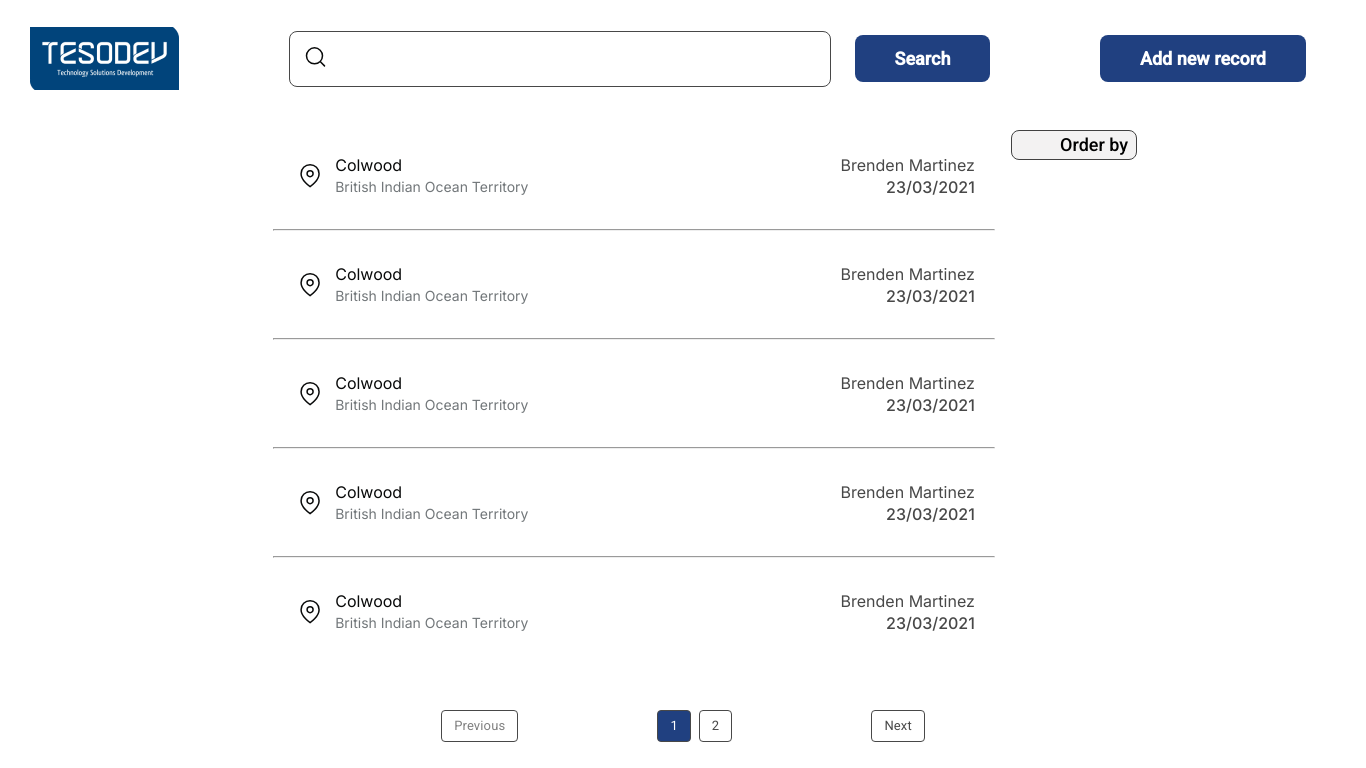
Show More › successful search
The image size is (1366, 768).
In the field with test id "searchInput": (584, 58) x1=341 y1=36 x2=827 y2=81, type "del"
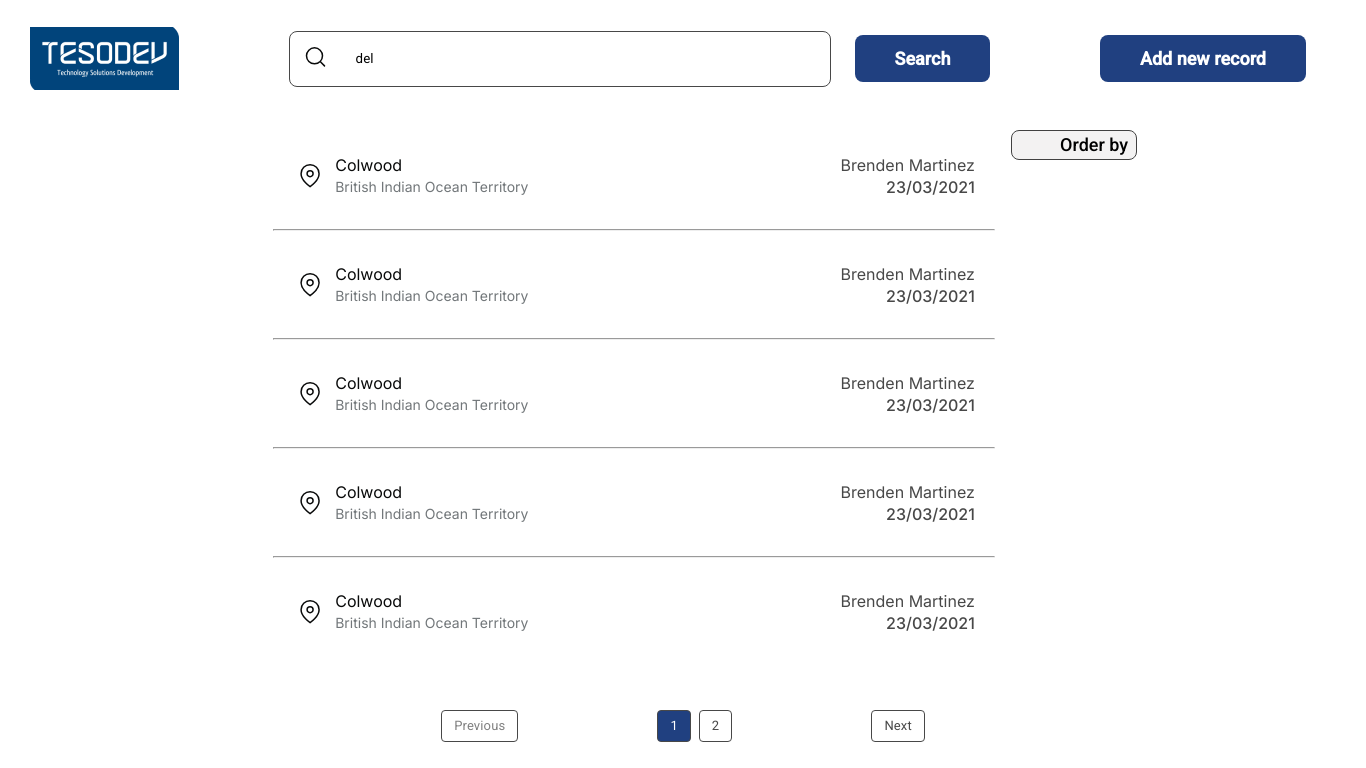
Click the button "Search": (922, 58) x1=855 y1=35 x2=990 y2=82
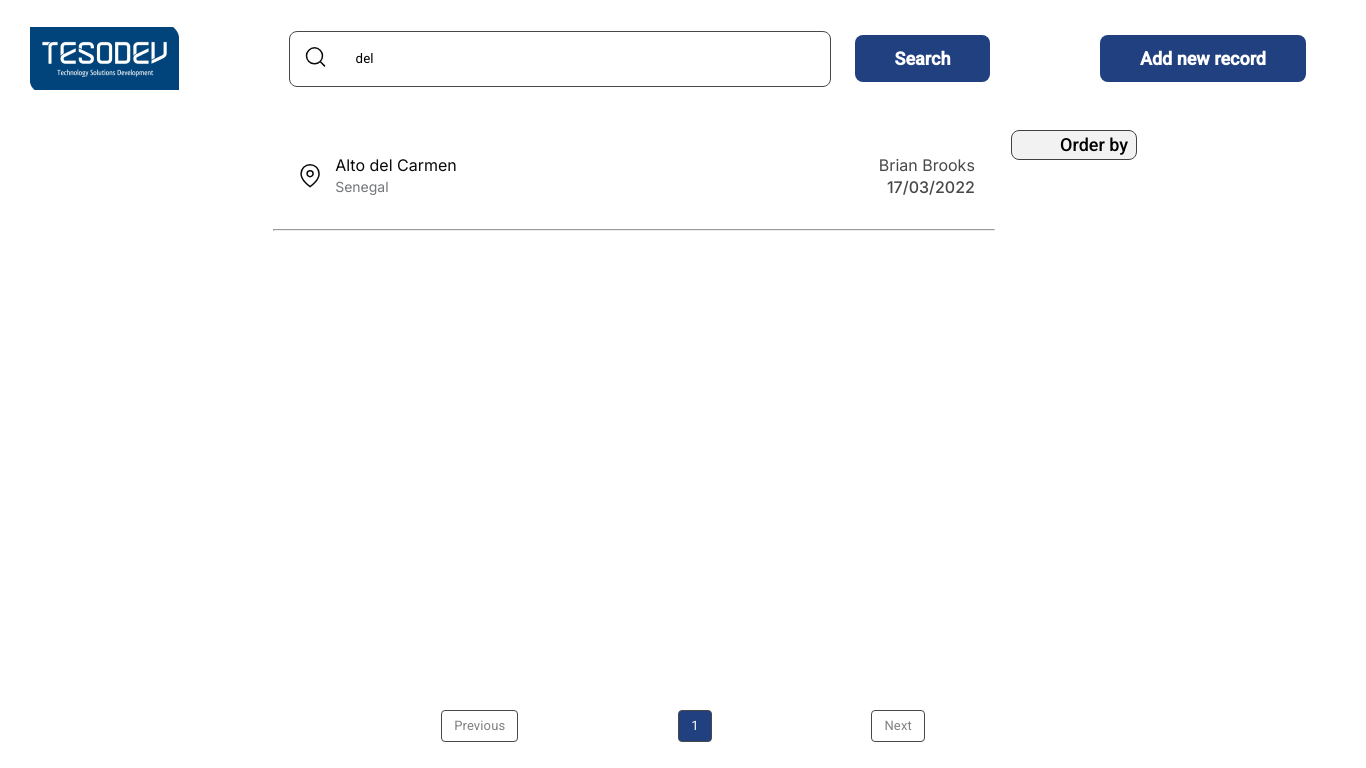
Expected: the number of elements with test id "list-item" is 1, x1=879 y1=155 x2=975 y2=175
